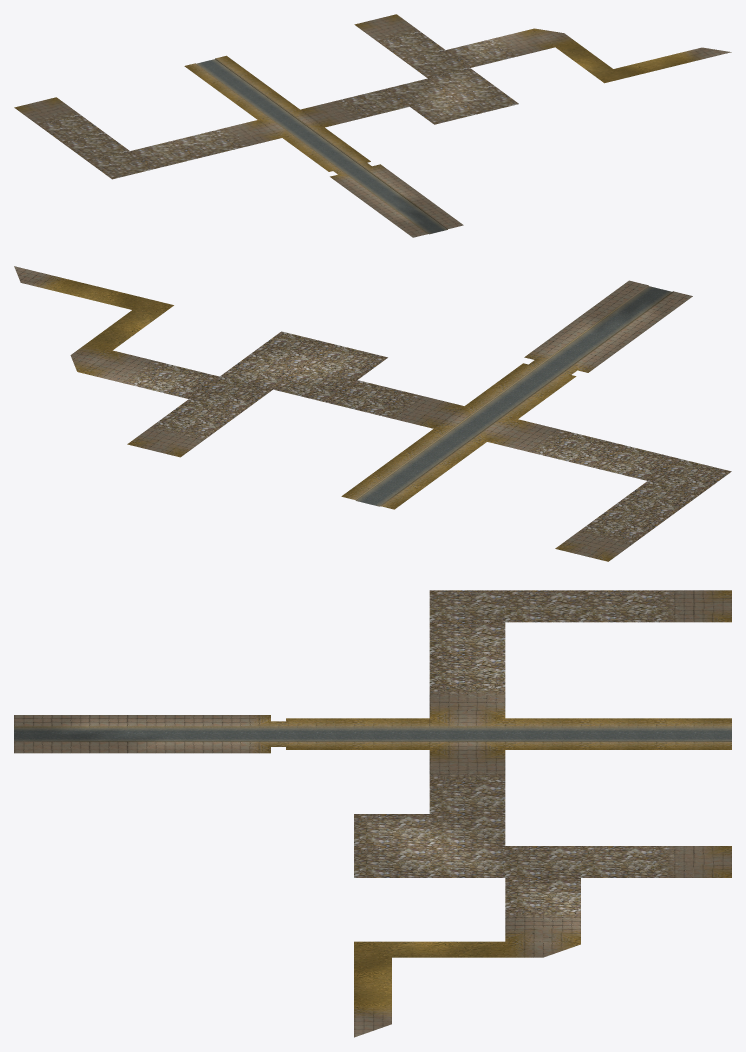
The model's file is M11Z1_Floor_Zone5.glb.
3 views of the same model, one above another, from view 1: azimuth 30°, elevation 25°; view 2: azimuth 150°, elevation 25°; view 3: azimuth 270°, elevation 25° (orthographic). The views are drawn at different scales.
Parts seen in each view (by area): view 1: M11Z1_FLOOR_ZONE5, M11Z1_FLOOR_ZONE5001, M11Z1_FLOOR_ZONE5002, M11Z1_FLOOR_ZONE5003, M11Z1_FLOOR_ZONE5024, M11Z1_FLOOR_ZONE5004, M11Z1_FLOOR_ZONE5033, M11Z1_FLOOR_ZONE5039, M11Z1_FLOOR_ZONE5038, M11Z1_FLOOR_ZONE5040, M11Z1_FLOOR_ZONE5018, M11Z1_FLOOR_ZONE5028 (+31 smaller); view 2: M11Z1_FLOOR_ZONE5, M11Z1_FLOOR_ZONE5001, M11Z1_FLOOR_ZONE5002, M11Z1_FLOOR_ZONE5003, M11Z1_FLOOR_ZONE5024, M11Z1_FLOOR_ZONE5004, M11Z1_FLOOR_ZONE5020, M11Z1_FLOOR_ZONE5017, M11Z1_FLOOR_ZONE5018, M11Z1_FLOOR_ZONE5028, M11Z1_FLOOR_ZONE5032, M11Z1_FLOOR_ZONE5034 (+31 smaller); view 3: M11Z1_FLOOR_ZONE5, M11Z1_FLOOR_ZONE5002, M11Z1_FLOOR_ZONE5001, M11Z1_FLOOR_ZONE5003, M11Z1_FLOOR_ZONE5024, M11Z1_FLOOR_ZONE5004, M11Z1_FLOOR_ZONE5020, M11Z1_FLOOR_ZONE5032, M11Z1_FLOOR_ZONE5038, M11Z1_FLOOR_ZONE5039, M11Z1_FLOOR_ZONE5033, M11Z1_FLOOR_ZONE5017 (+31 smaller).
Boxes of the visible parts, x1=… form: M11Z1_FLOOR_ZONE5: x1=389, y1=207, x2=463, y2=237; M11Z1_FLOOR_ZONE5001: x1=364, y1=189, x2=438, y2=219; M11Z1_FLOOR_ZONE5002: x1=340, y1=171, x2=414, y2=201; M11Z1_FLOOR_ZONE5003: x1=319, y1=146, x2=389, y2=183; M11Z1_FLOOR_ZONE5024: x1=234, y1=92, x2=323, y2=126; M11Z1_FLOOR_ZONE5004: x1=283, y1=128, x2=350, y2=164; M11Z1_FLOOR_ZONE5033: x1=209, y1=74, x2=277, y2=108; M11Z1_FLOOR_ZONE5039: x1=185, y1=56, x2=252, y2=90; M11Z1_FLOOR_ZONE5038: x1=26, y1=106, x2=80, y2=142; M11Z1_FLOOR_ZONE5040: x1=366, y1=23, x2=420, y2=59; M11Z1_FLOOR_ZONE5018: x1=452, y1=68, x2=494, y2=113; M11Z1_FLOOR_ZONE5028: x1=428, y1=50, x2=469, y2=96; M11Z1_FLOOR_ZONE5: x1=598, y1=280, x2=692, y2=318; M11Z1_FLOOR_ZONE5001: x1=567, y1=303, x2=661, y2=341; M11Z1_FLOOR_ZONE5002: x1=537, y1=326, x2=630, y2=363; M11Z1_FLOOR_ZONE5003: x1=496, y1=348, x2=599, y2=385; M11Z1_FLOOR_ZONE5024: x1=403, y1=407, x2=488, y2=463; M11Z1_FLOOR_ZONE5004: x1=465, y1=375, x2=563, y2=418; M11Z1_FLOOR_ZONE5020: x1=617, y1=471, x2=731, y2=503; M11Z1_FLOOR_ZONE5017: x1=273, y1=357, x2=387, y2=389; M11Z1_FLOOR_ZONE5018: x1=220, y1=344, x2=334, y2=376; M11Z1_FLOOR_ZONE5028: x1=189, y1=367, x2=303, y2=398; M11Z1_FLOOR_ZONE5032: x1=586, y1=494, x2=700, y2=525; M11Z1_FLOOR_ZONE5034: x1=158, y1=389, x2=272, y2=421; M11Z1_FLOOR_ZONE5: x1=14, y1=715, x2=89, y2=753; M11Z1_FLOOR_ZONE5002: x1=165, y1=715, x2=240, y2=753; M11Z1_FLOOR_ZONE5001: x1=89, y1=715, x2=164, y2=753; M11Z1_FLOOR_ZONE5003: x1=240, y1=715, x2=352, y2=753; M11Z1_FLOOR_ZONE5024: x1=432, y1=718, x2=578, y2=749; M11Z1_FLOOR_ZONE5004: x1=316, y1=718, x2=427, y2=749; M11Z1_FLOOR_ZONE5020: x1=430, y1=590, x2=579, y2=622; M11Z1_FLOOR_ZONE5032: x1=505, y1=590, x2=655, y2=622; M11Z1_FLOOR_ZONE5038: x1=581, y1=590, x2=694, y2=622; M11Z1_FLOOR_ZONE5039: x1=618, y1=718, x2=730, y2=749; M11Z1_FLOOR_ZONE5033: x1=543, y1=718, x2=654, y2=749; M11Z1_FLOOR_ZONE5017: x1=354, y1=814, x2=504, y2=845.
Bounding box in the file's own units: 112 × 0.1 × 76.
Materials: 8 (8 with a texture image).
